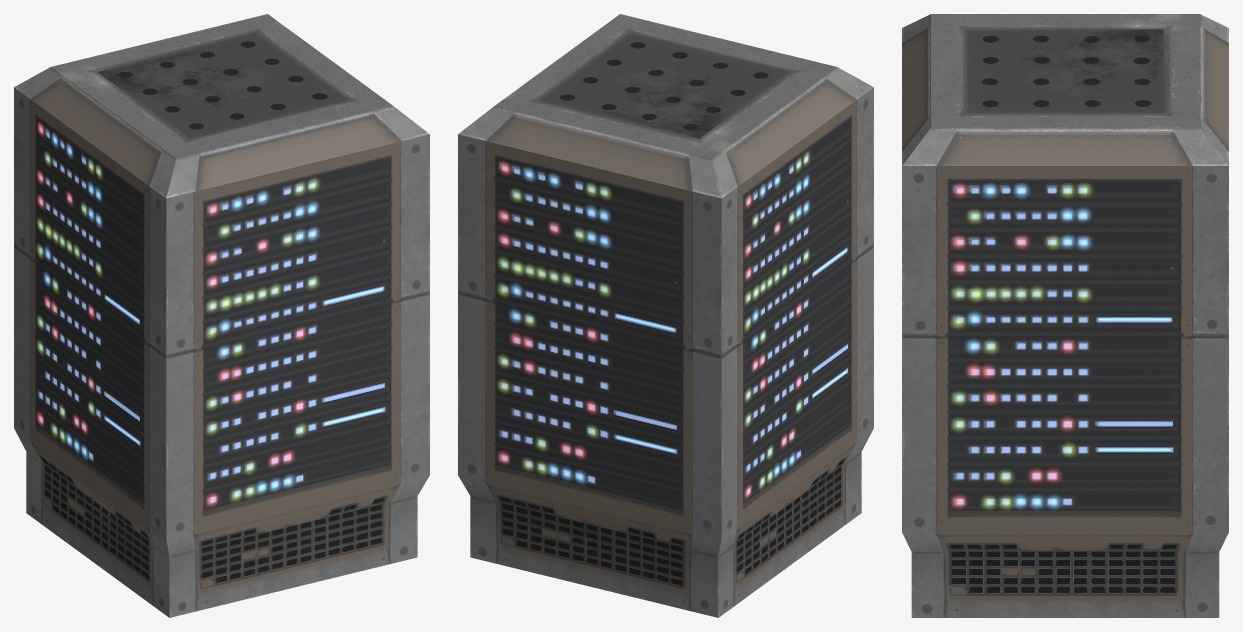
File: SM_server_a.fbx
3 renders of one model, left to right at view 1: azimuth 30°, elevation 25°; view 2: azimuth 150°, elevation 25°; view 3: azimuth 270°, elevation 25°, orthographic. The views are drawn at different scales.
Visible parts, largest first — view 1: server_gamemodel_Mesh; view 2: server_gamemodel_Mesh; view 3: server_gamemodel_Mesh.
Boxes of the visible parts, x1,y1,x2,y2 form: server_gamemodel_Mesh: [14, 14, 429, 617]; server_gamemodel_Mesh: [458, 14, 873, 617]; server_gamemodel_Mesh: [902, 14, 1228, 617].
Size of the model in its own units: 2 by 3.26 by 2.
